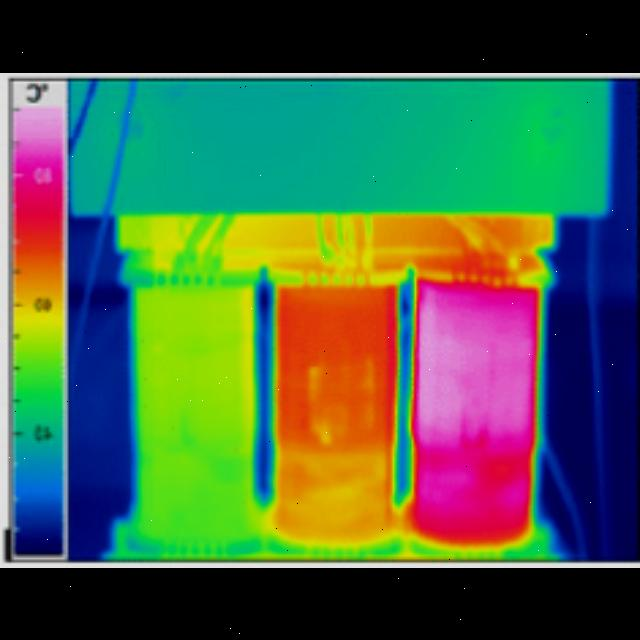loose_joint_red: (500, 266, 508, 287), (452, 263, 460, 282), (326, 266, 334, 284), (464, 262, 471, 280), (302, 268, 309, 286), (488, 265, 495, 282), (350, 268, 357, 285), (512, 267, 518, 286), (316, 266, 322, 285), (477, 264, 483, 281), (364, 270, 370, 286)
point_overload_red: (461, 215, 503, 250)
point_overload_yellow: (444, 215, 482, 249)
